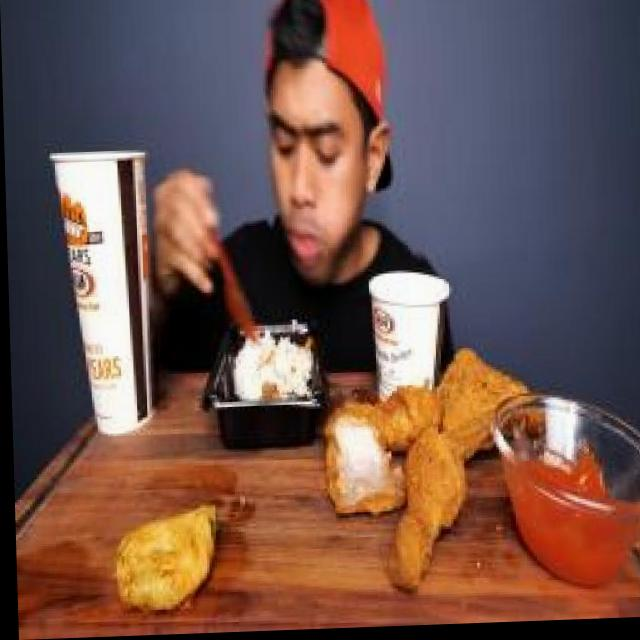AW cola: (38, 126, 161, 457)
black pepper rice bowl: (224, 289, 326, 447)
crispy corn: (366, 264, 468, 415)
fried chicken: (318, 340, 532, 584)
perkedel: (96, 484, 225, 633)
